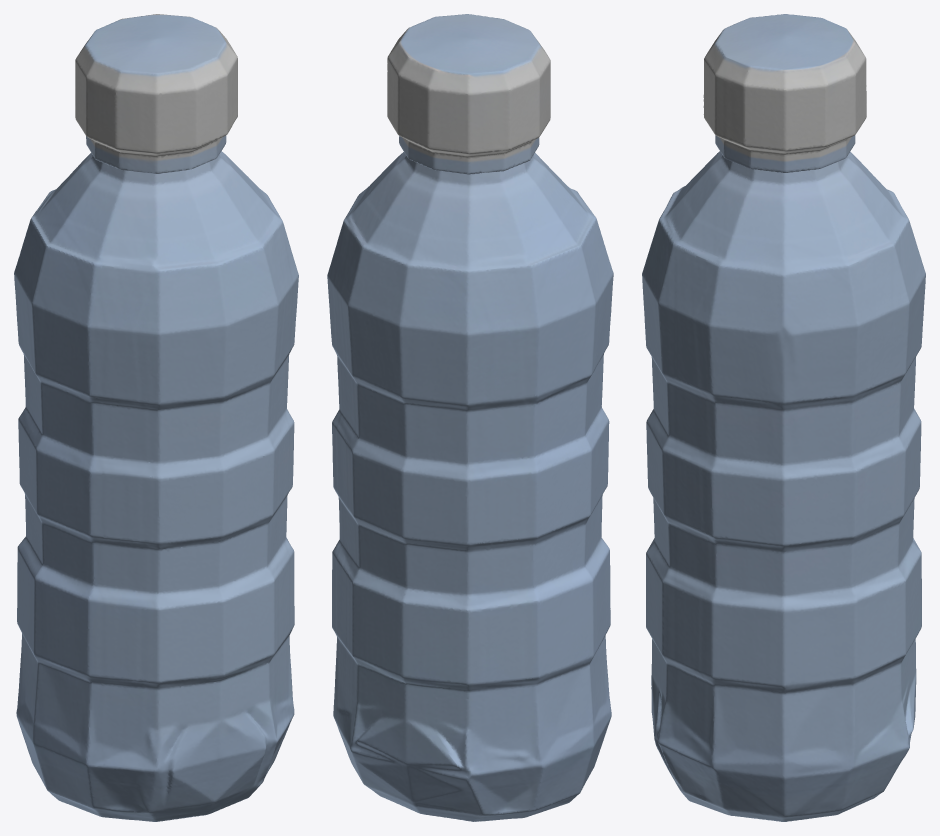
File: plastic water bottle 3d model.glb
3 renders of one model, left to right at view 1: azimuth 30°, elevation 25°; view 2: azimuth 150°, elevation 25°; view 3: azimuth 270°, elevation 25°, orthographic.
Parts seen in each view (by area): view 1: tripo_node_bf532e53-8c1d-4cdd-b3e7-e9cbc0776013; view 2: tripo_node_bf532e53-8c1d-4cdd-b3e7-e9cbc0776013; view 3: tripo_node_bf532e53-8c1d-4cdd-b3e7-e9cbc0776013.
Part boxes in pixels (box(x1,y1,x2,y2)): tripo_node_bf532e53-8c1d-4cdd-b3e7-e9cbc0776013: box(14, 14, 298, 821); tripo_node_bf532e53-8c1d-4cdd-b3e7-e9cbc0776013: box(327, 14, 613, 821); tripo_node_bf532e53-8c1d-4cdd-b3e7-e9cbc0776013: box(642, 14, 925, 821).
Size of the model in its own units: 0.3504 by 1 by 0.3457.
1 material, 1 textured.
